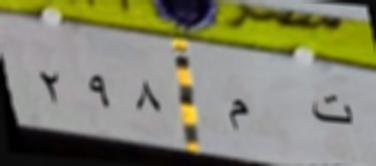2: (36, 68, 66, 111)
8: (132, 76, 162, 118)
9: (83, 68, 114, 118)
meem: (222, 92, 252, 136)
taa: (310, 88, 354, 132)
